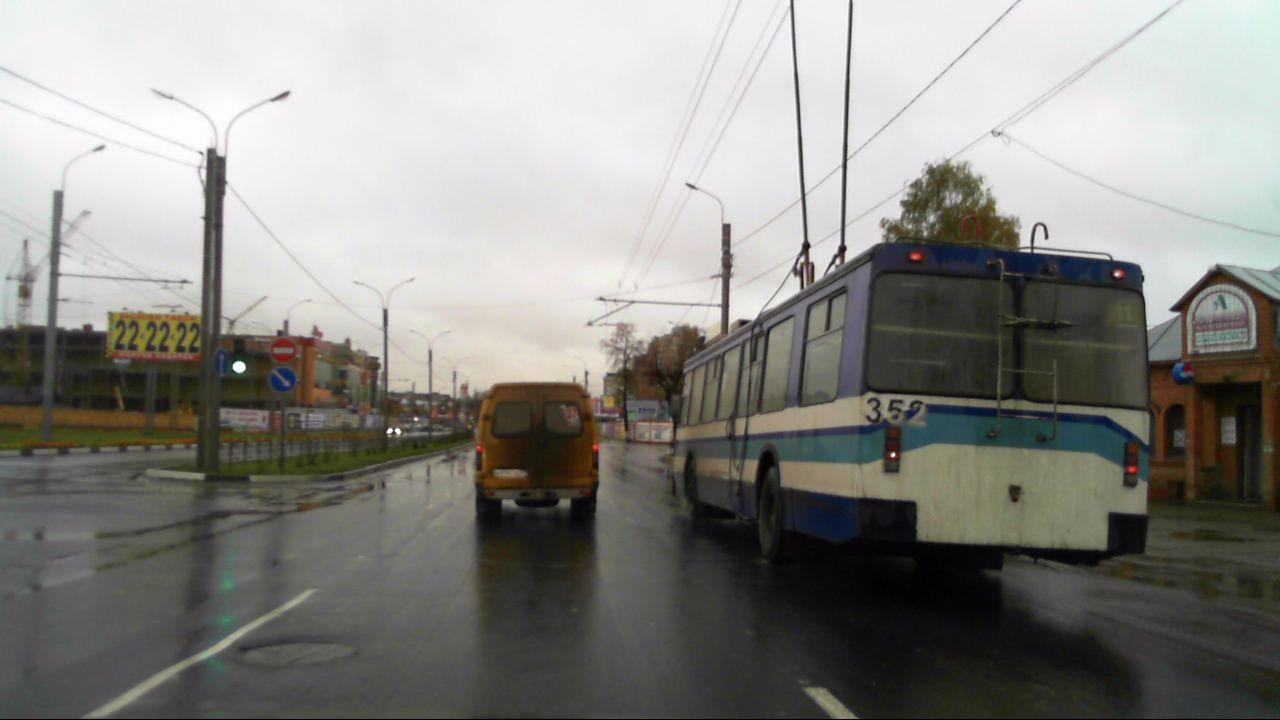road_sign: (270, 336, 298, 364), (268, 366, 297, 393)
